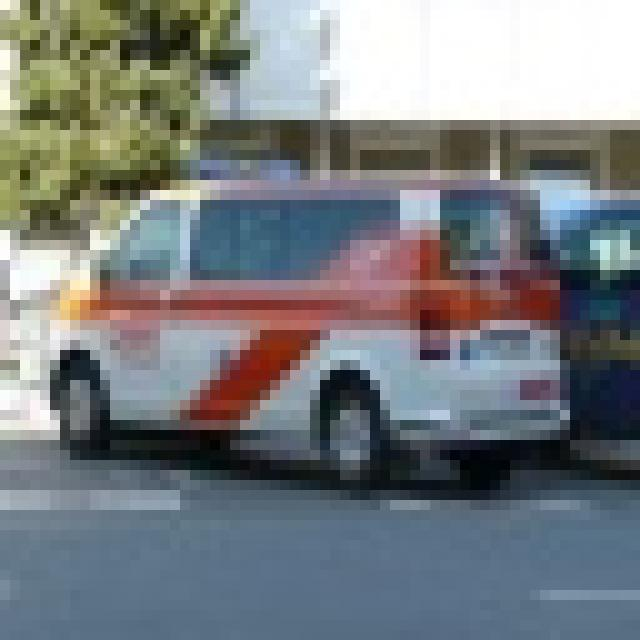Ambulance: (40, 170, 570, 480)
